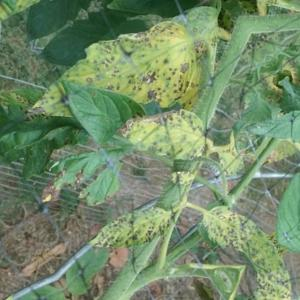Tomato Septoria leaf spot: (15, 0, 221, 179), (100, 83, 227, 206), (77, 187, 181, 281), (186, 188, 264, 269)
